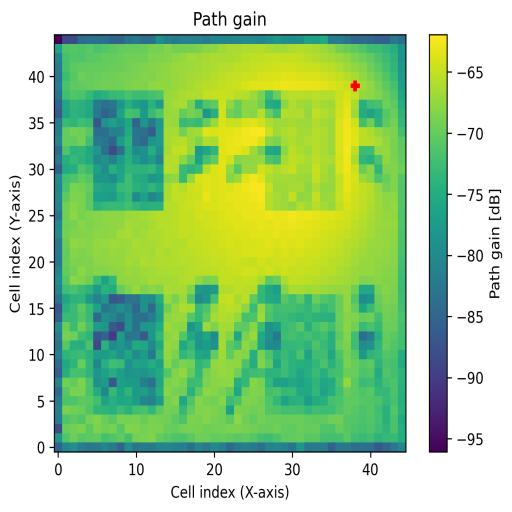Concrete: (266, 91, 336, 211)
Glass: (85, 90, 163, 211)
Metal: (265, 293, 344, 414)
Wood: (94, 294, 164, 406)
